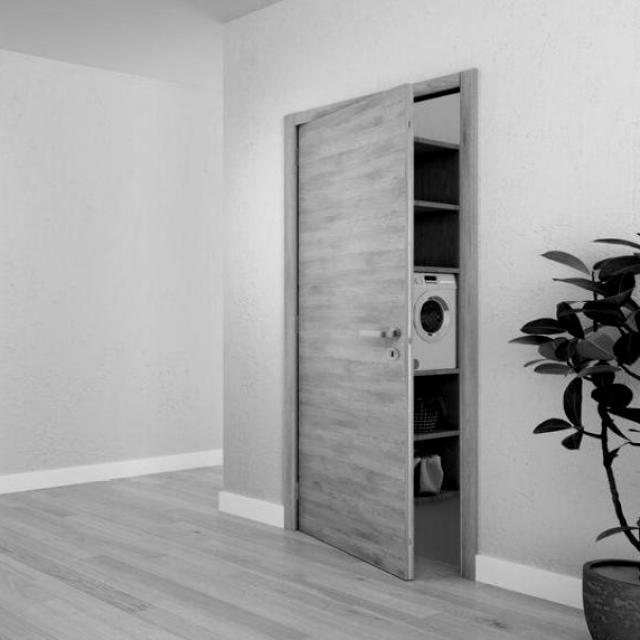door: (279, 64, 426, 586)
